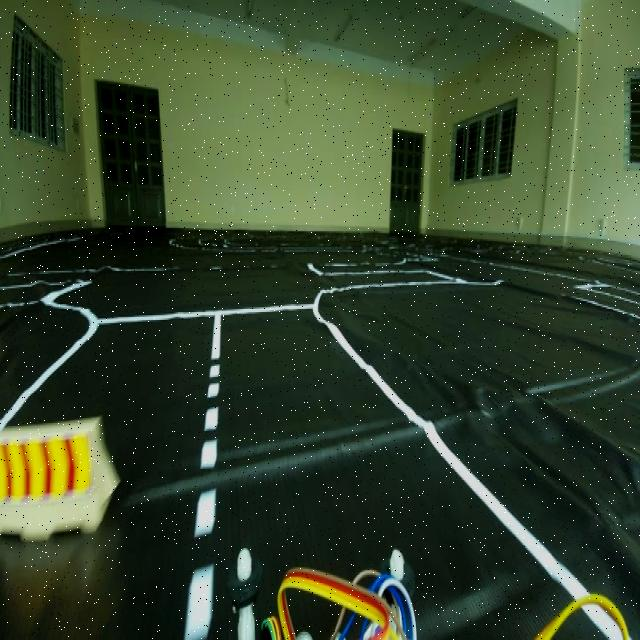roadblock: (0, 419, 109, 534)
